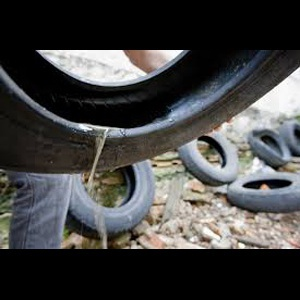tire: (56, 128, 154, 240), (177, 127, 239, 189), (227, 174, 300, 212), (247, 129, 290, 170), (279, 119, 300, 155)
